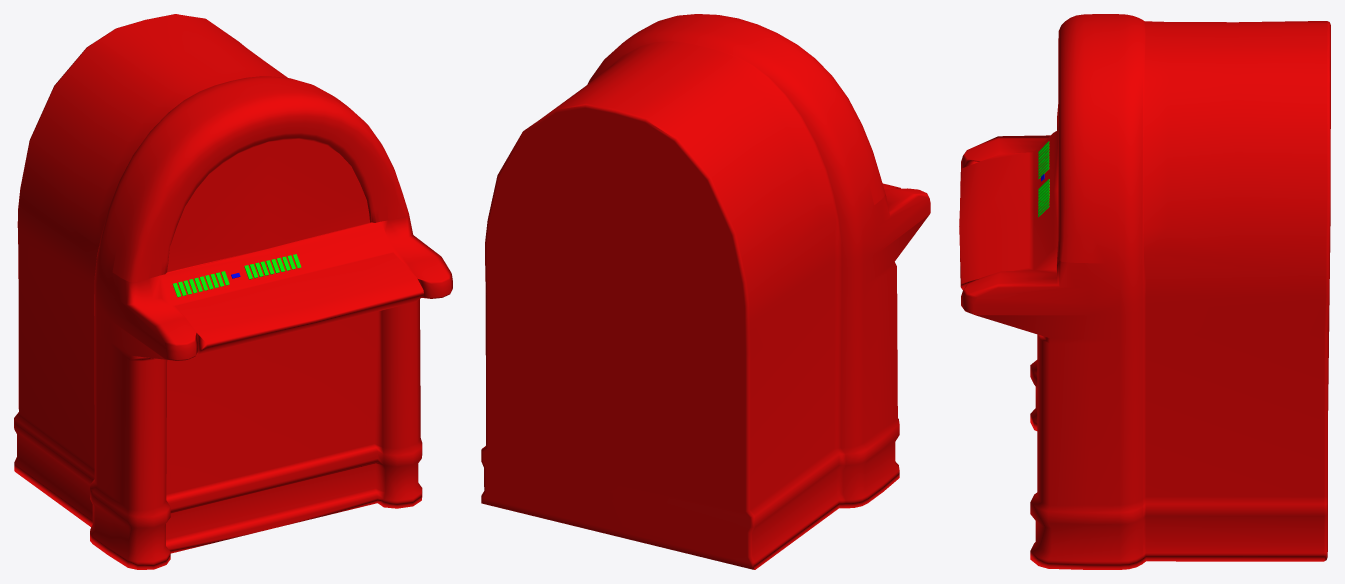
The model's file is ASS_jukebox_v000.fbx.
3 renders of one model, left to right at view 1: azimuth 30°, elevation 25°; view 2: azimuth 150°, elevation 25°; view 3: azimuth 270°, elevation 25°, orthographic. The views are drawn at different scales.
Visible parts, largest first — view 1: pCylinder3, pCube9, pCube8; view 2: pCylinder3; view 3: pCylinder3.
Boxes of the visible parts, left/top/right/bottom form: pCylinder3: left=14, top=14, right=452, bottom=569; pCube9: left=244, top=254, right=301, bottom=279; pCube8: left=172, top=271, right=229, bottom=297; pCylinder3: left=481, top=14, right=930, bottom=569; pCylinder3: left=959, top=14, right=1330, bottom=569.
Size of the model in its own units: 14.64 by 19.83 by 14.56.
